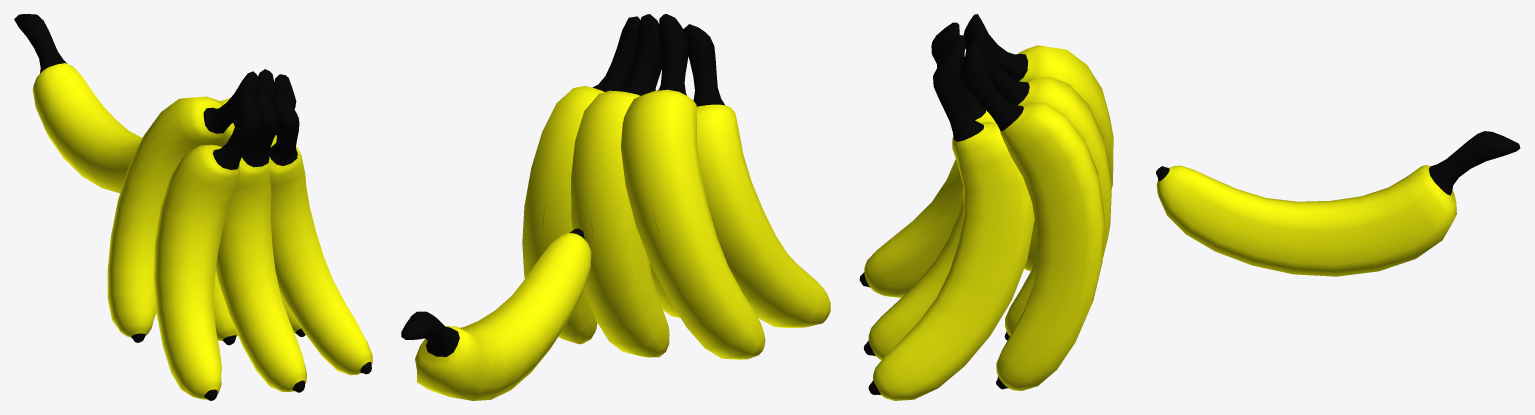
Rendered from Banana.glb.
The picture shows the model from 3 angles, left to right: view 1: azimuth 30°, elevation 25°; view 2: azimuth 150°, elevation 25°; view 3: azimuth 270°, elevation 25°; orthographic projection. The views are drawn at different scales.
Visible parts, largest first — view 1: Bundel Bananas, BANANA .001; view 2: Bundel Bananas, BANANA .001; view 3: Bundel Bananas, BANANA .001.
Part boxes in pixels (x1,y1,x2,y2): Bundel Bananas: (107, 69, 372, 400); BANANA .001: (14, 14, 142, 193); Bundel Bananas: (522, 14, 830, 359); BANANA .001: (401, 228, 591, 400); Bundel Bananas: (859, 14, 1113, 400); BANANA .001: (1156, 131, 1520, 276).
Bounding box in the file's own units: 0.8641 × 1.24 × 2.16.
1 material, 1 textured.
